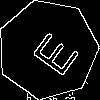E: (23, 24, 81, 79)
